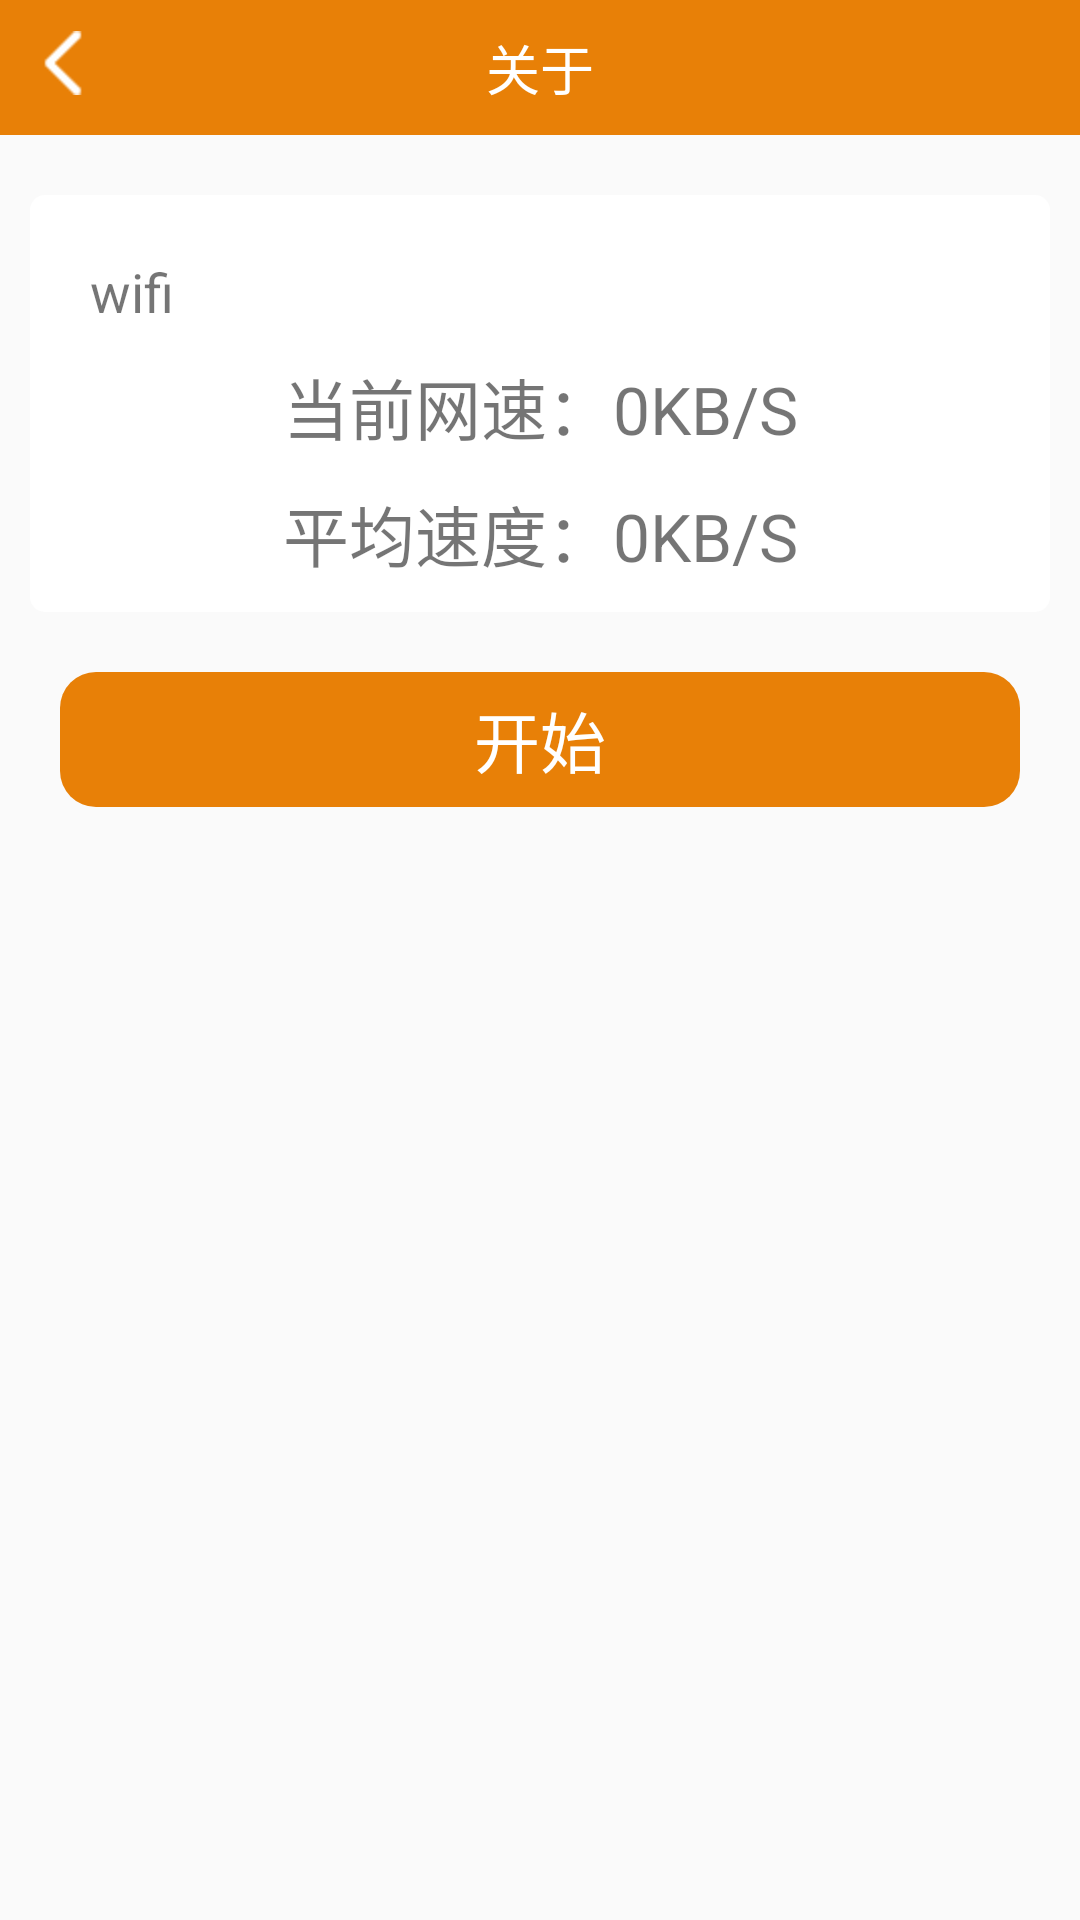

Named icons in this screenshot (1080*1920) and their centers, point (x, y):
back: point (63, 63)
